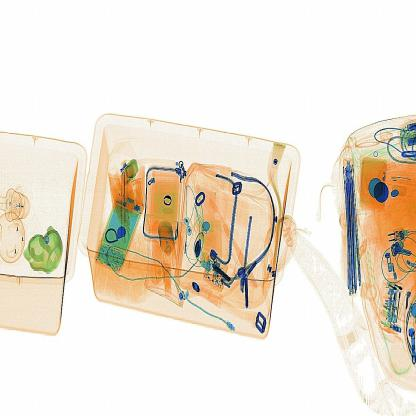pliers: (117, 164, 128, 247)
